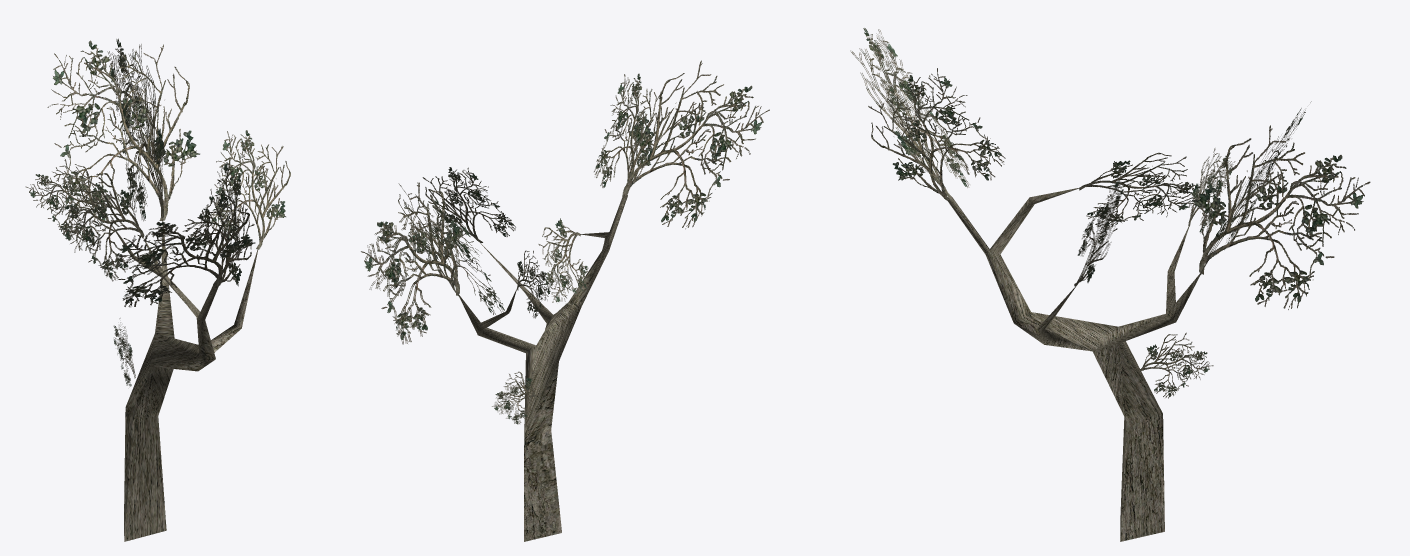
Rendered from mtns_shrb_gnarled_l3.fbx.
3 views of the same model, side by side, from view 1: azimuth 30°, elevation 25°; view 2: azimuth 150°, elevation 25°; view 3: azimuth 270°, elevation 25° (orthographic). The views are drawn at different scales.
Parts seen in each view (by area): view 1: mesh_node; view 2: mesh_node; view 3: mesh_node.
Part boxes in pixels (<box>): mesh_node: <box>25,38,290,541</box>; mesh_node: <box>361,60,769,541</box>; mesh_node: <box>850,28,1370,541</box>.
Bounding box in the file's own units: 3.64 × 4.95 × 5.3.
